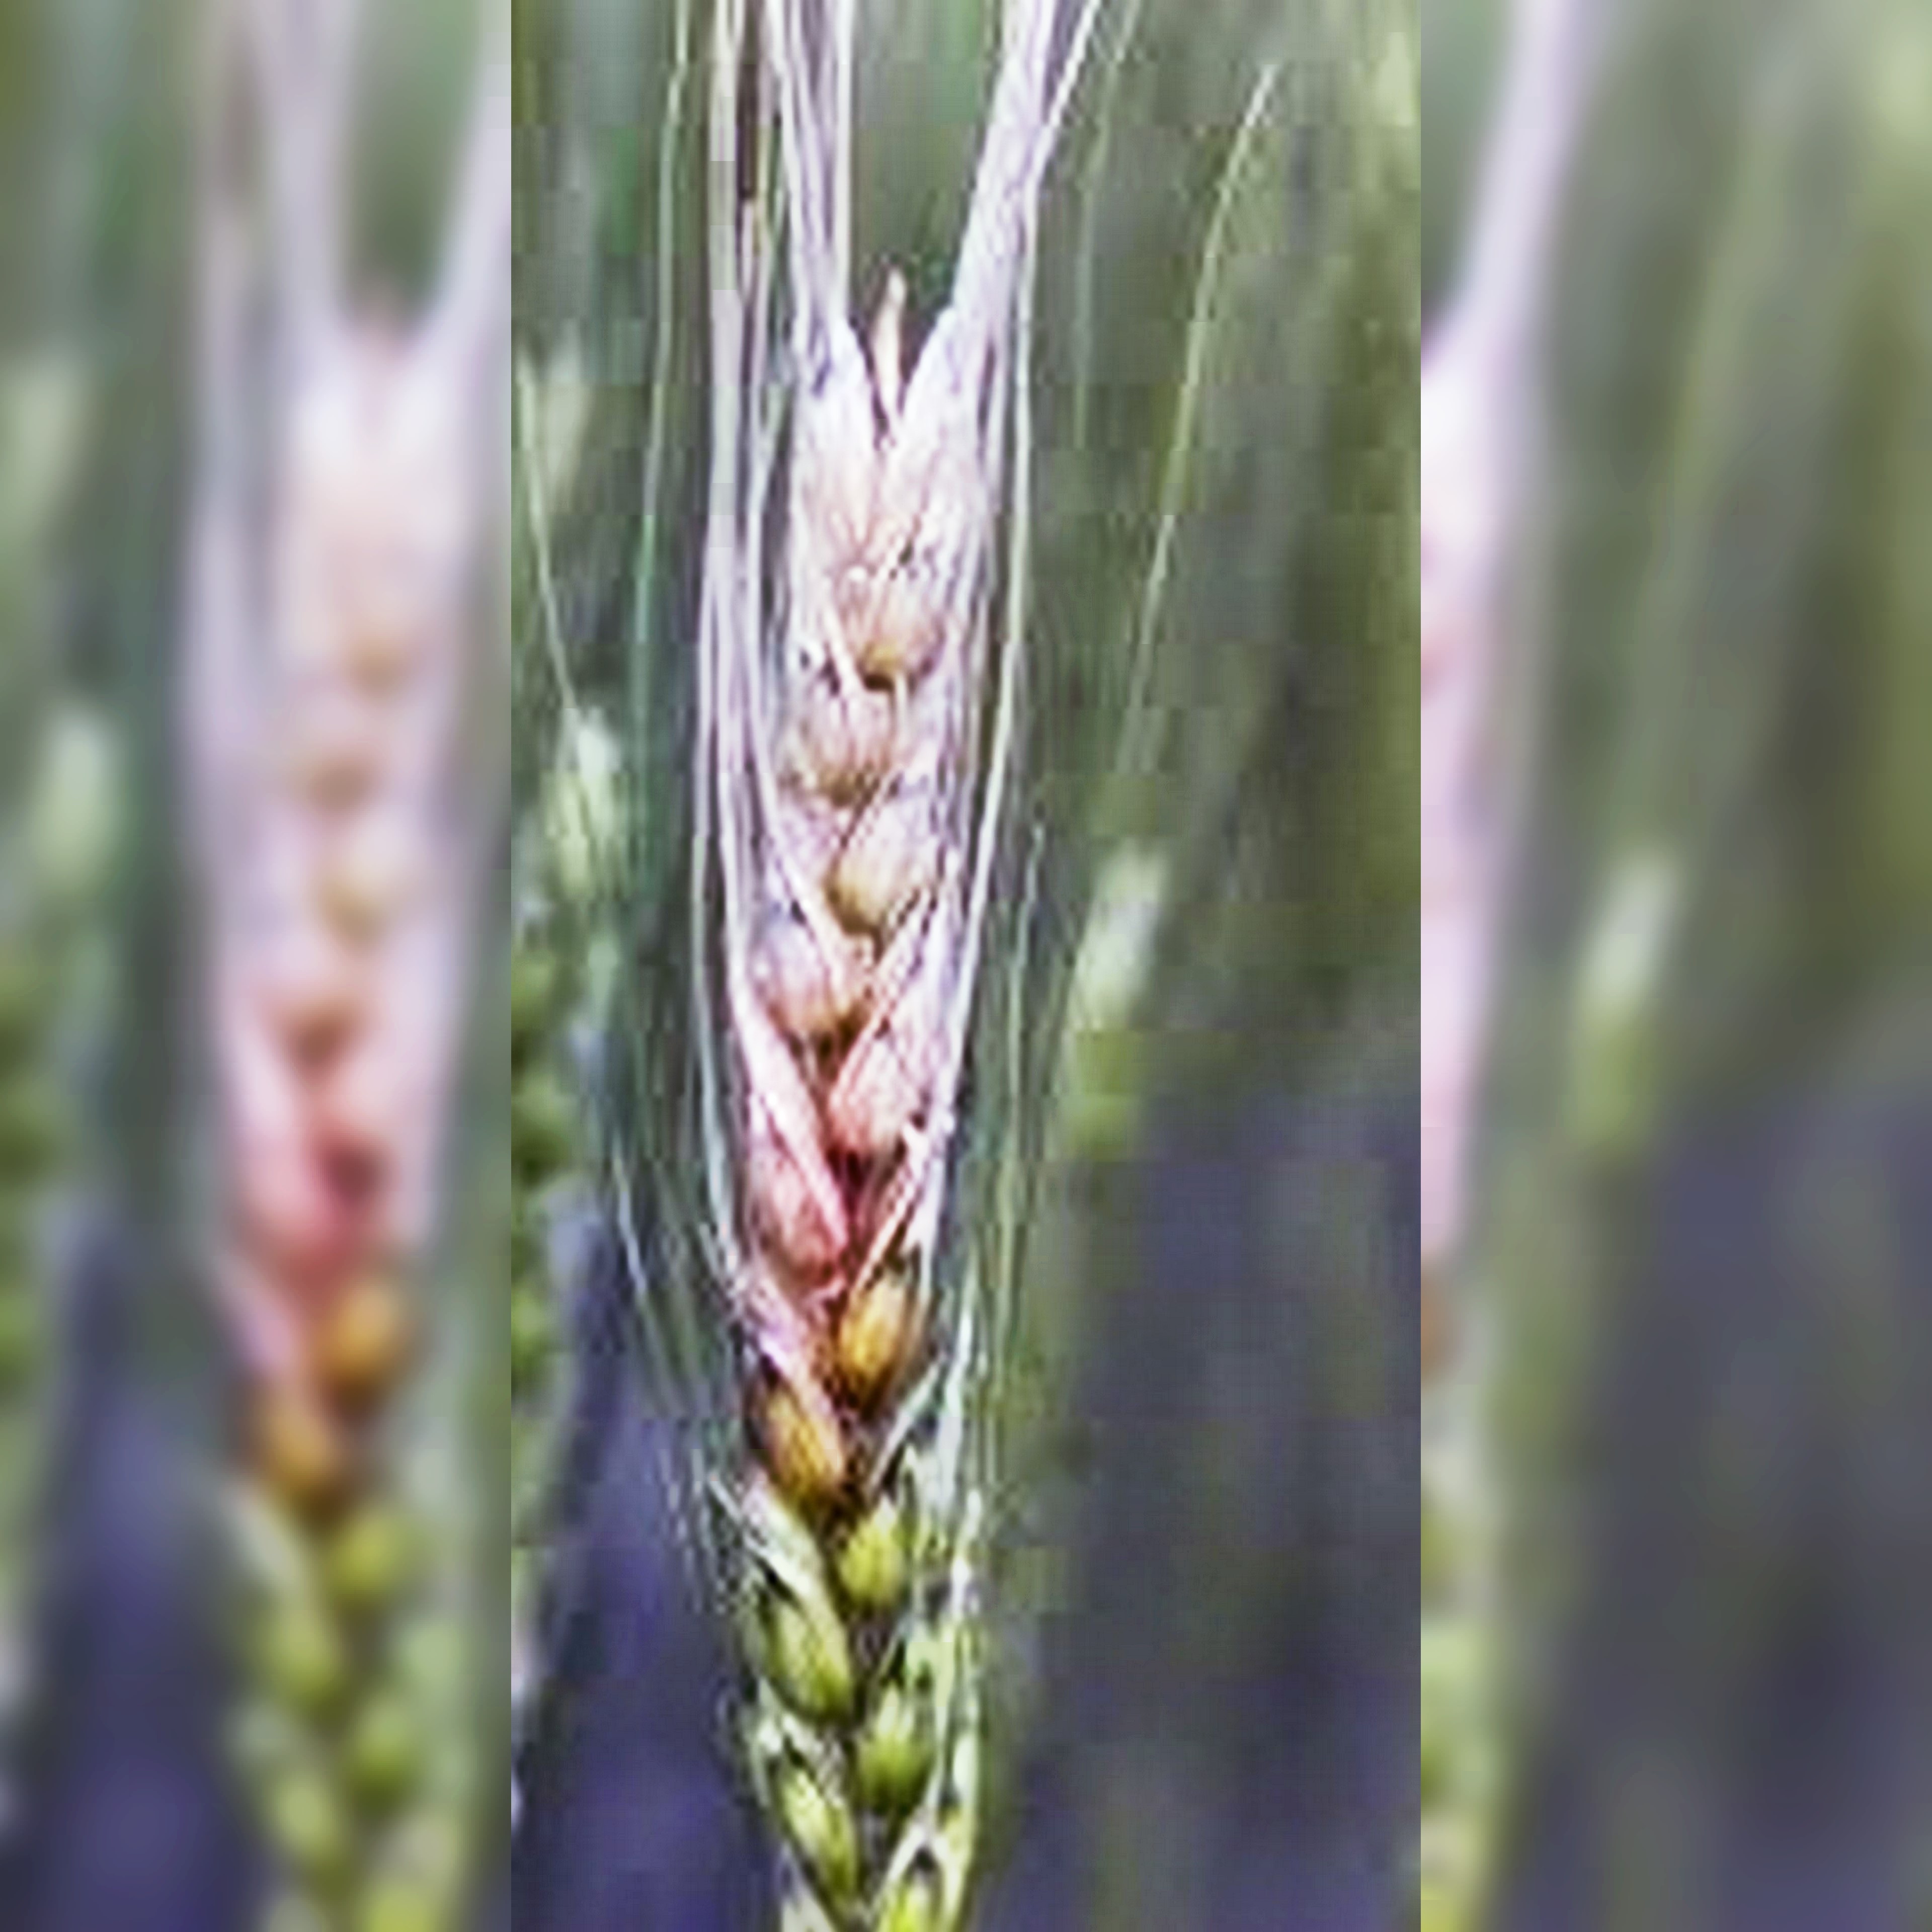Wheat scab: (683, 267, 1012, 1904)
